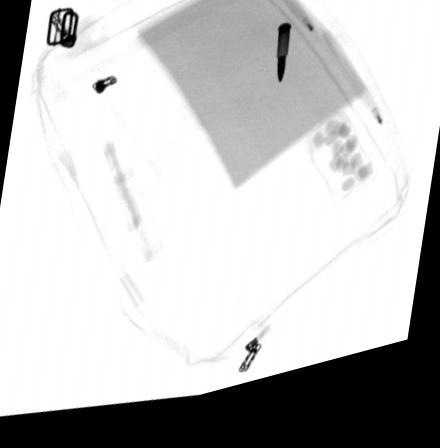Bullet: (276, 36, 292, 103)
